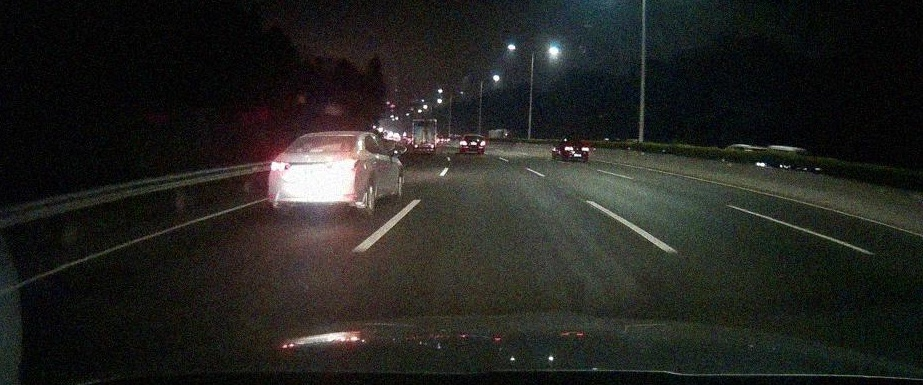L_light: (271, 162, 287, 171), (461, 141, 467, 145), (415, 145, 418, 148)
R_light: (336, 160, 357, 169), (480, 141, 485, 145), (431, 145, 434, 148)
T_light: (309, 149, 323, 153), (423, 121, 426, 123), (472, 136, 474, 137)
night-no: (268, 131, 361, 220), (412, 119, 436, 156), (460, 134, 485, 154)
